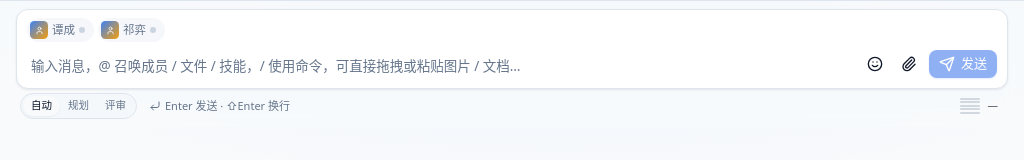
Test: ADR 0135 成员条统一常驻（全场景一致展示） › arena 全员入席：成员条照常展示（与席位并存，点击插入 @名字）
Click the button titled "召唤 谭成" at (60, 30), box [27,18,94,42]
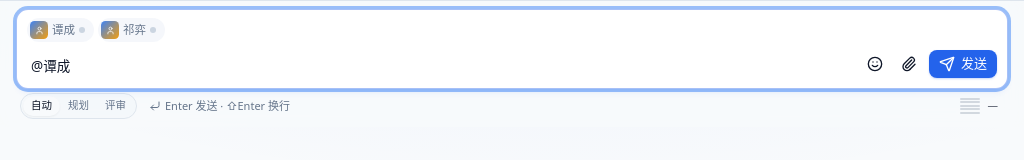
Now the text box holds "@谭成 ", box [17,44,1007,88]
